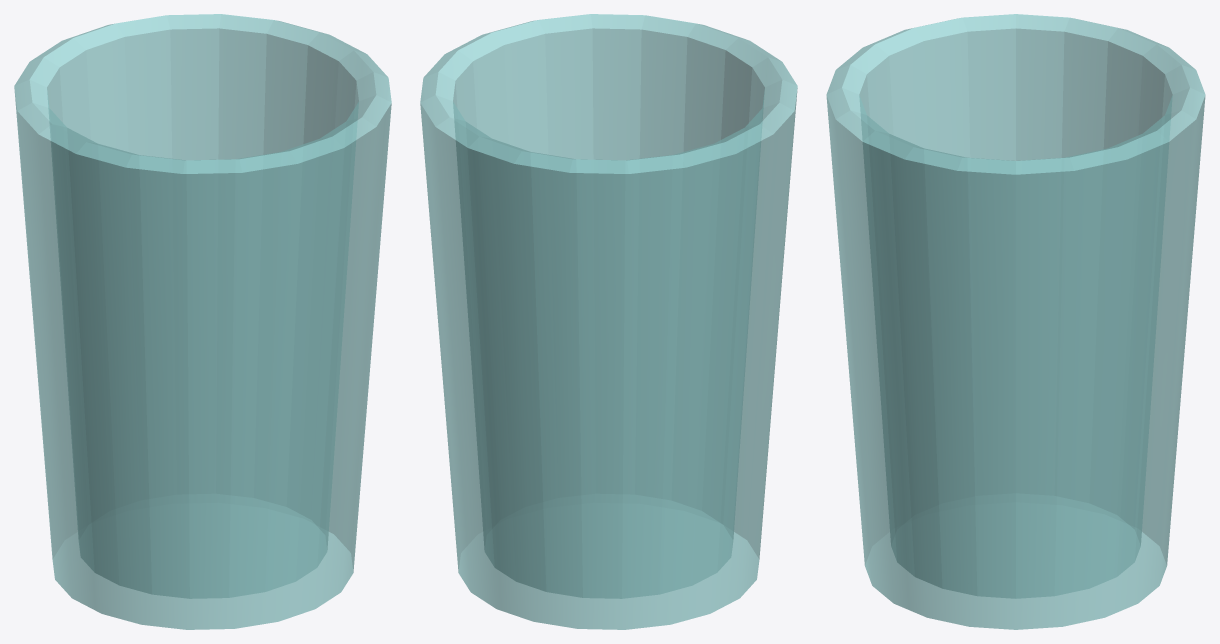
The model's file is copo.fbx.
3 renders of one model, left to right at view 1: azimuth 30°, elevation 25°; view 2: azimuth 150°, elevation 25°; view 3: azimuth 270°, elevation 25°, orthographic.
Parts seen in each view (by area): view 1: pCylinder4; view 2: pCylinder4; view 3: pCylinder4.
Part boxes in pixels (x1,y1,x2,y2): pCylinder4: (14, 14, 391, 629); pCylinder4: (420, 14, 797, 629); pCylinder4: (826, 14, 1205, 629).
Bounding box in the file's own units: 2 × 2.79 × 2.
